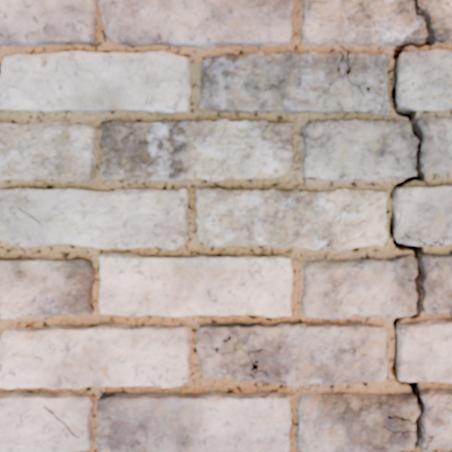brick: (0, 324, 191, 388), (197, 322, 387, 385), (100, 254, 292, 316), (200, 52, 389, 114), (101, 119, 292, 180), (196, 188, 387, 249), (0, 51, 190, 112), (96, 392, 290, 451), (0, 188, 188, 248), (99, 0, 293, 46), (0, 122, 97, 181), (0, 258, 94, 318), (0, 392, 93, 451), (0, 0, 96, 45), (393, 184, 451, 243), (397, 49, 451, 110), (398, 319, 451, 381)
broken_brick: (302, 253, 415, 319), (297, 392, 418, 451), (301, 119, 416, 181), (301, 0, 425, 45), (417, 115, 451, 174), (421, 388, 451, 451), (421, 253, 451, 315), (420, 0, 451, 43)
crack: (381, 0, 449, 451), (326, 52, 374, 97)
